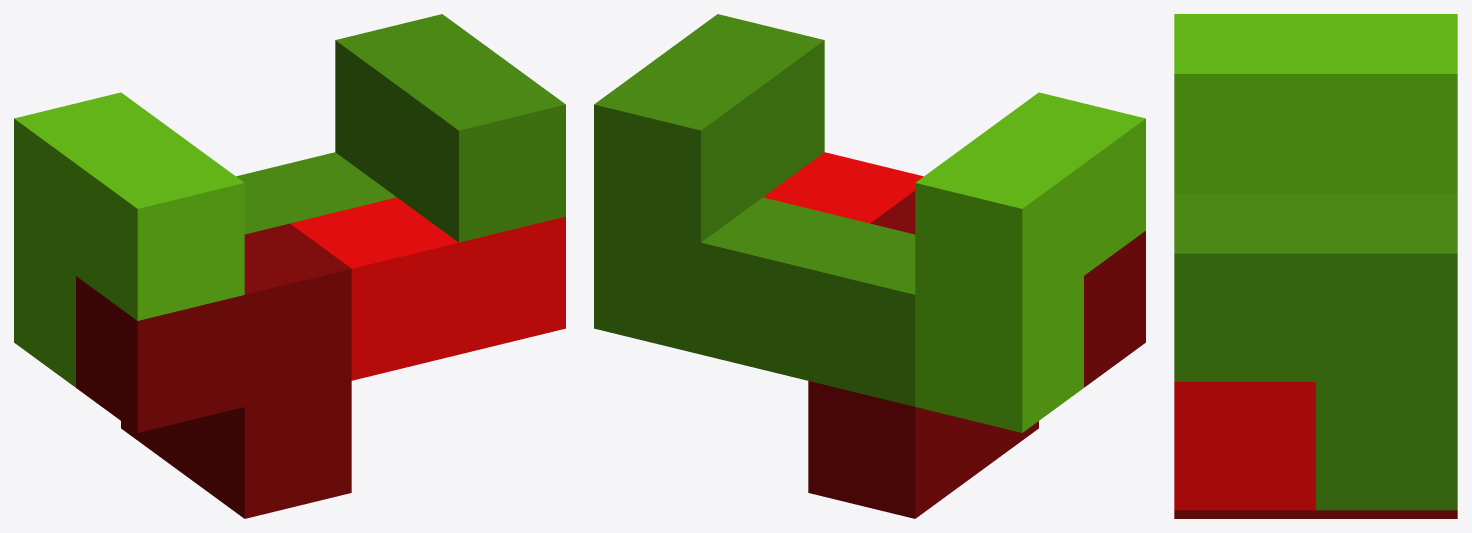
3 views of the same model, side by side, from view 1: azimuth 30°, elevation 25°; view 2: azimuth 150°, elevation 25°; view 3: azimuth 270°, elevation 25° (orthographic). The views are drawn at different scales.
Parts seen in each view (by area): view 1: mergedBlocks(Clone); view 2: mergedBlocks(Clone); view 3: mergedBlocks(Clone).
Boxes of the visible parts, box(x1,y1,x2,y2) form: mergedBlocks(Clone): box(14, 14, 565, 518); mergedBlocks(Clone): box(594, 14, 1145, 518); mergedBlocks(Clone): box(1174, 14, 1457, 518).
Bounding box in the file's own units: 4 × 3 × 2.
4 materials, 4 textured.
